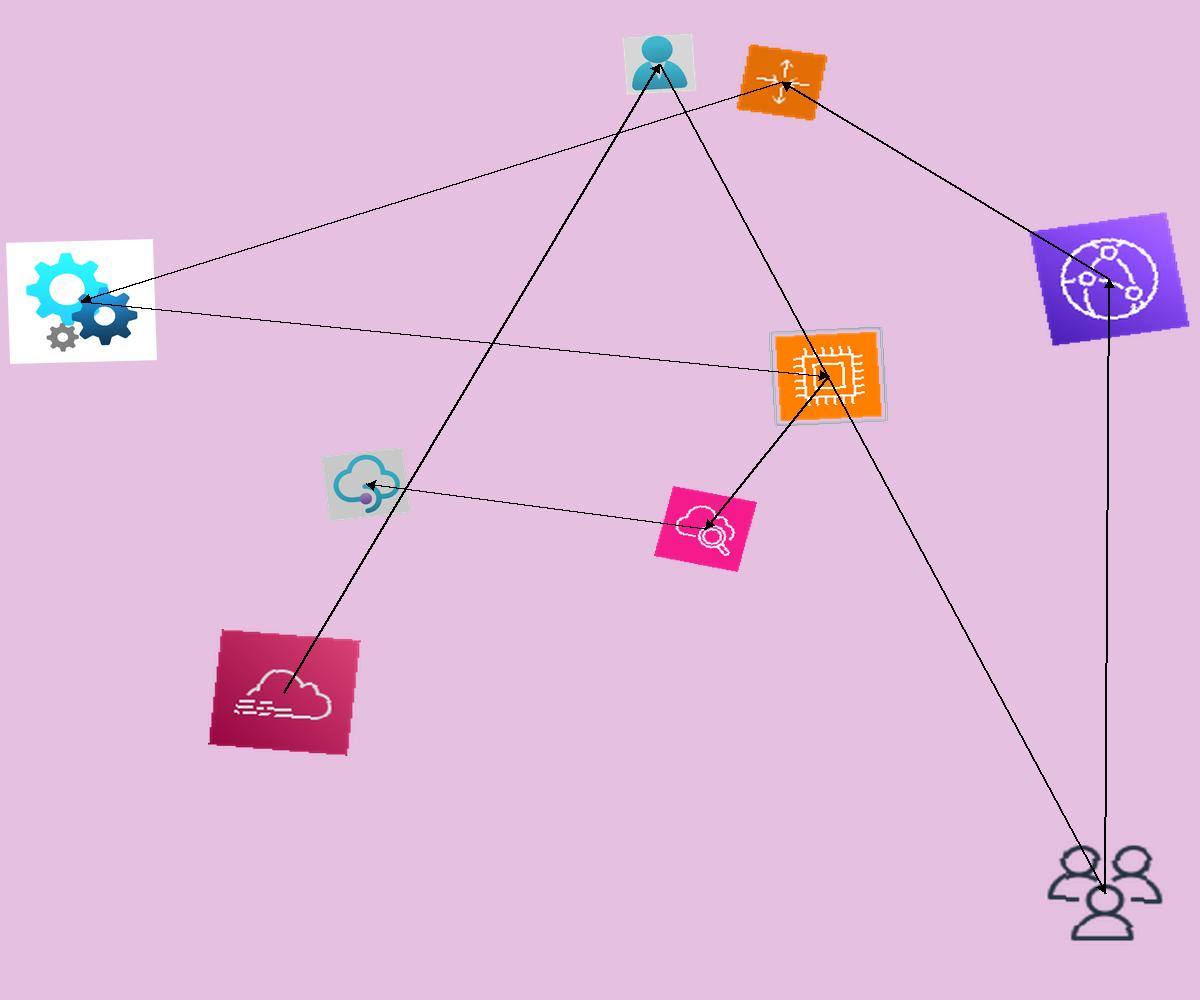AWS-Category_Compute: (768, 326, 889, 427)
AWS-CloudFront: (1028, 211, 1191, 347)
AWS-CloudTrail: (208, 629, 361, 756)
AWS-CloudWatch: (654, 486, 757, 572)
AWS-Res_Users: (1040, 839, 1170, 947)
AWS-Scaling-group: (735, 43, 829, 122)
Azure_api: (6, 239, 157, 364)
Azure_api_gateway: (321, 447, 411, 522)
Azure_users: (622, 33, 697, 95)
